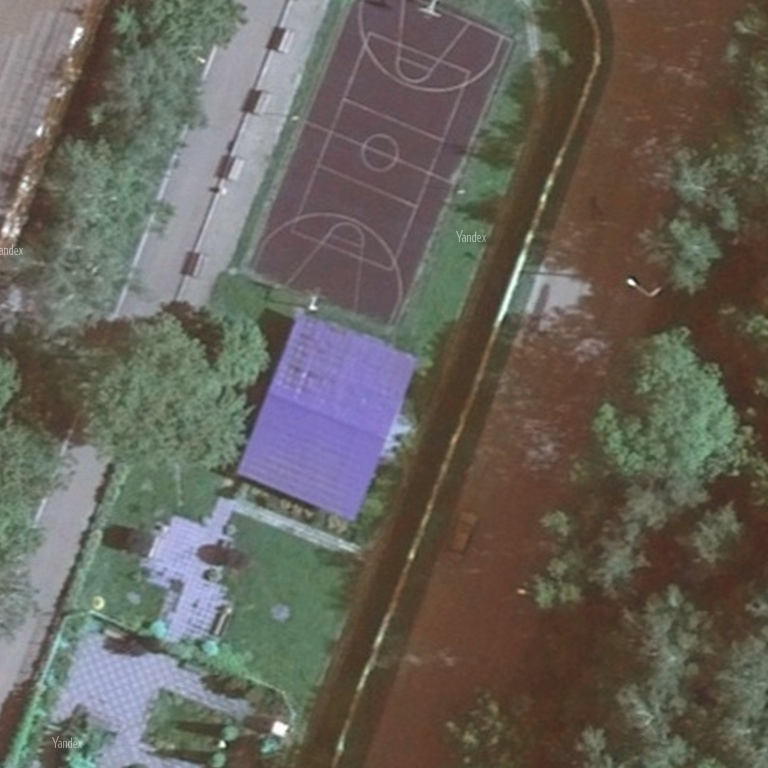basket_court: (236, 2, 522, 334)
